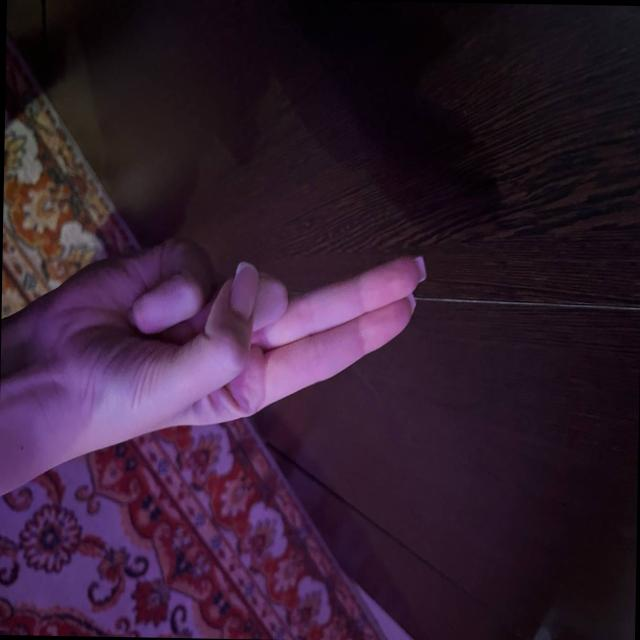ts: (51, 220, 423, 448)
